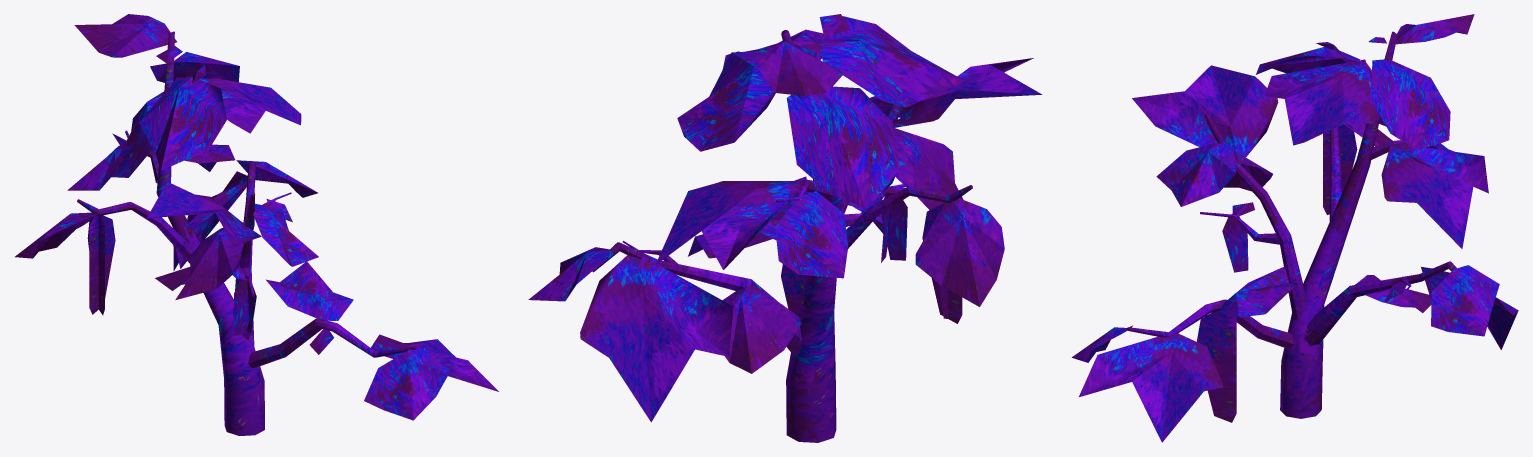
Rendered from plant-transformed.glb.
3 renders of one model, left to right at view 1: azimuth 30°, elevation 25°; view 2: azimuth 150°, elevation 25°; view 3: azimuth 270°, elevation 25°, orthographic. The views are drawn at different scales.
Visible parts, largest first — view 1: Cylinder.004_Material.001_0; view 2: Cylinder.004_Material.001_0; view 3: Cylinder.004_Material.001_0.
Part boxes in pixels (<box>): Cylinder.004_Material.001_0: <box>15,14,498,435</box>; Cylinder.004_Material.001_0: <box>528,14,1042,442</box>; Cylinder.004_Material.001_0: <box>1072,14,1518,442</box>.
Bounding box in the file's own units: 8.58 × 8.56 × 9.43.
Materials: 1 (1 with a texture image).
